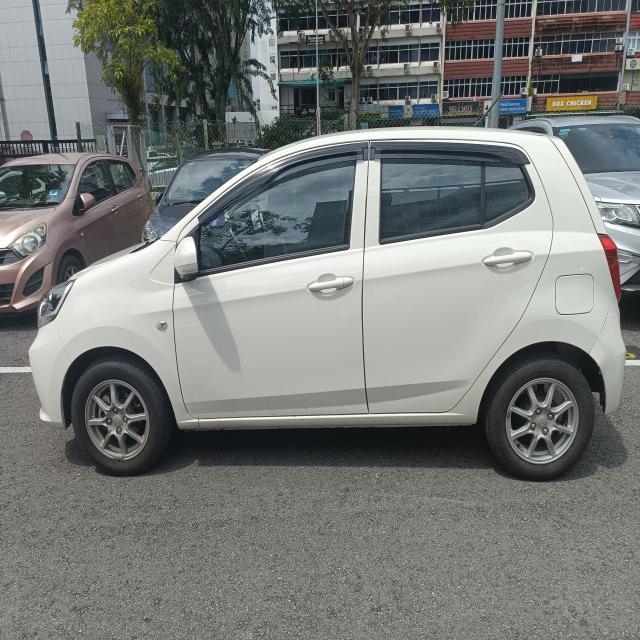PeroduaAxia: (28, 123, 627, 482)
